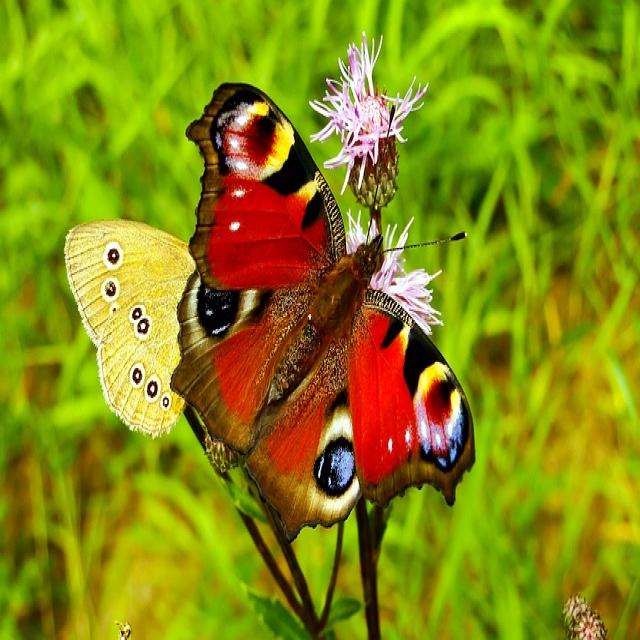butterfly: (170, 45, 477, 640), (62, 219, 203, 439)
